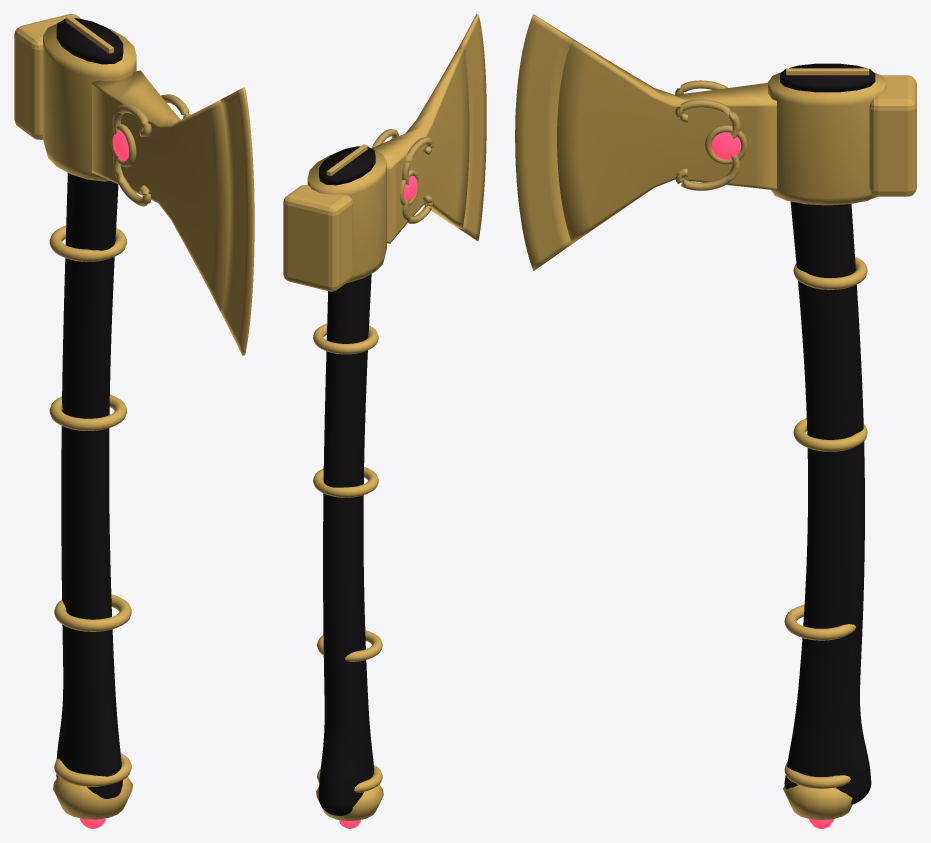
Rendered from gold-axe.glb.
3 renders of one model, left to right at view 1: azimuth 30°, elevation 25°; view 2: azimuth 150°, elevation 25°; view 3: azimuth 270°, elevation 25°, orthographic. The views are drawn at different scales.
Visible parts, largest first — view 1: gold-axe; view 2: gold-axe; view 3: gold-axe.
Boxes of the visible parts, box(x1,y1,x2,y2) form: gold-axe: box(14, 14, 254, 828); gold-axe: box(283, 14, 486, 828); gold-axe: box(515, 14, 916, 828).
Bounding box in the file's own units: 0.0862 × 1 × 0.4478.
